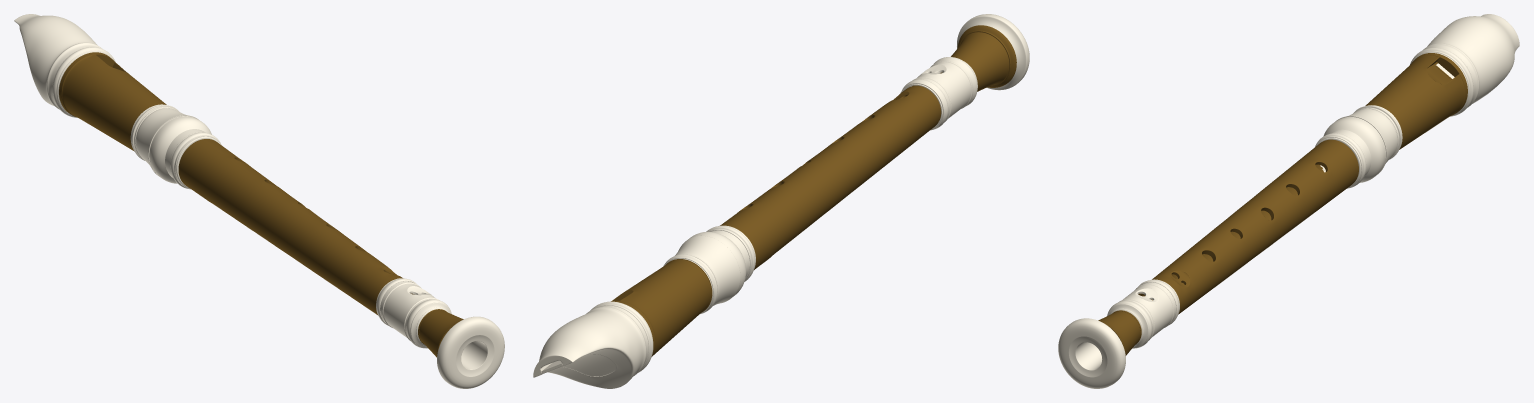
The model's file is flute.fbx.
3 renders of one model, left to right at view 1: azimuth 30°, elevation 25°; view 2: azimuth 150°, elevation 25°; view 3: azimuth 330°, elevation 25°, orthographic. The views are drawn at different scales.
Visible parts, largest first — view 1: FlautaDoce.001; view 2: FlautaDoce.001; view 3: FlautaDoce.001.
Part boxes in pixels (box(x1,y1,x2,y2)): FlautaDoce.001: box(14, 14, 504, 388); FlautaDoce.001: box(533, 14, 1029, 388); FlautaDoce.001: box(1058, 14, 1519, 388).
Size of the model in its own units: 27.58 by 24.4 by 256.
